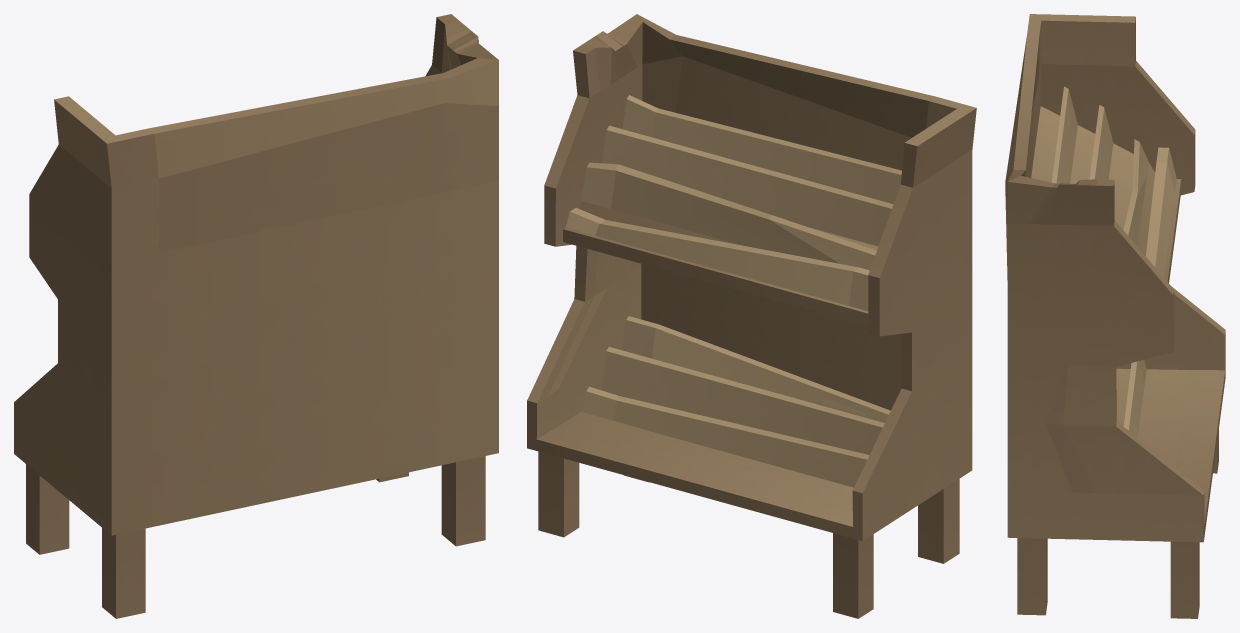
Rendered from leaflet_holder_2.glb.
The picture shows the model from 3 angles, left to right: view 1: azimuth 30°, elevation 25°; view 2: azimuth 150°, elevation 25°; view 3: azimuth 270°, elevation 25°; orthographic projection. The views are drawn at different scales.
Parts seen in each view (by area): view 1: leaflet_holder_2; view 2: leaflet_holder_2; view 3: leaflet_holder_2.
Part boxes in pixels (<box>): leaflet_holder_2: <box>14,14,498,618</box>; leaflet_holder_2: <box>527,14,976,618</box>; leaflet_holder_2: <box>1005,14,1225,618</box>.
Size of the model in its own units: 0.8513 by 1.01 by 0.4599.
Materials: 1 (1 with a texture image).
